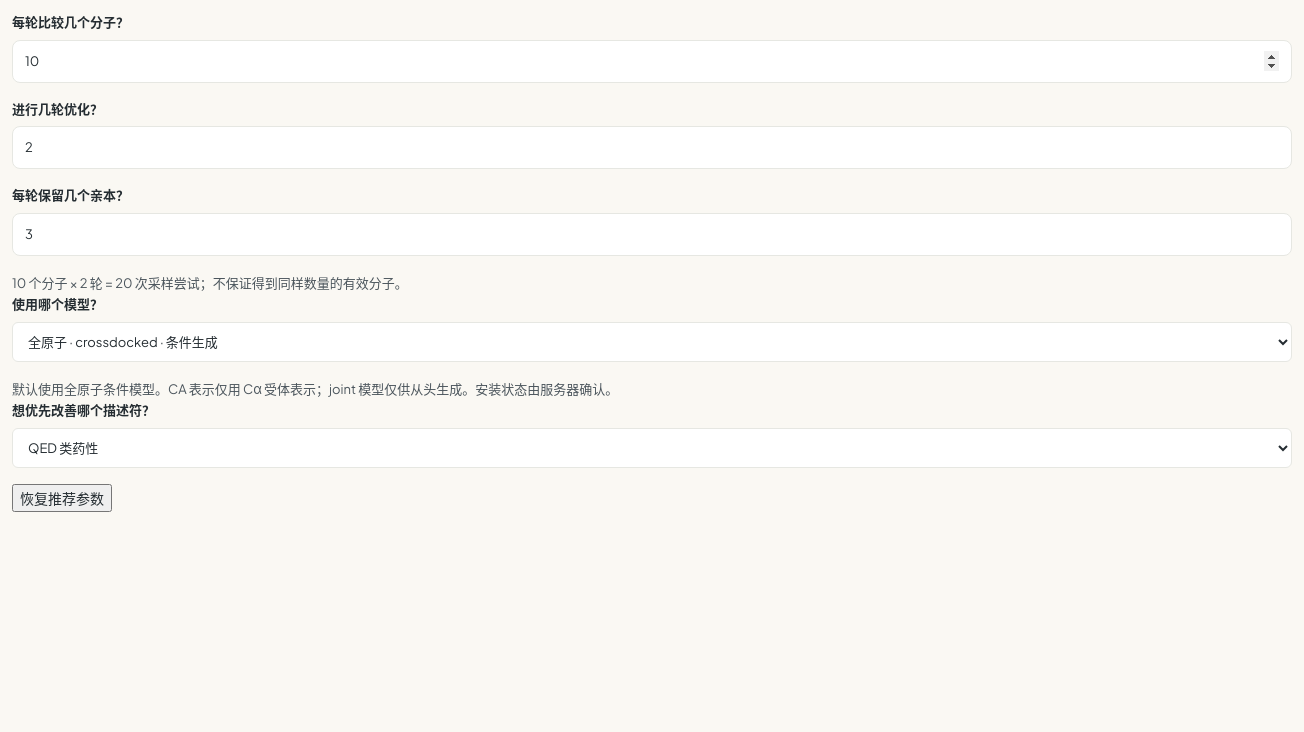
Test: shows actual optimization budget instead of an unused candidate count in zh
Replace the text in the number field labelled "每轮比较几个分子？" with "60": point(652, 61) [12,40,1292,83]
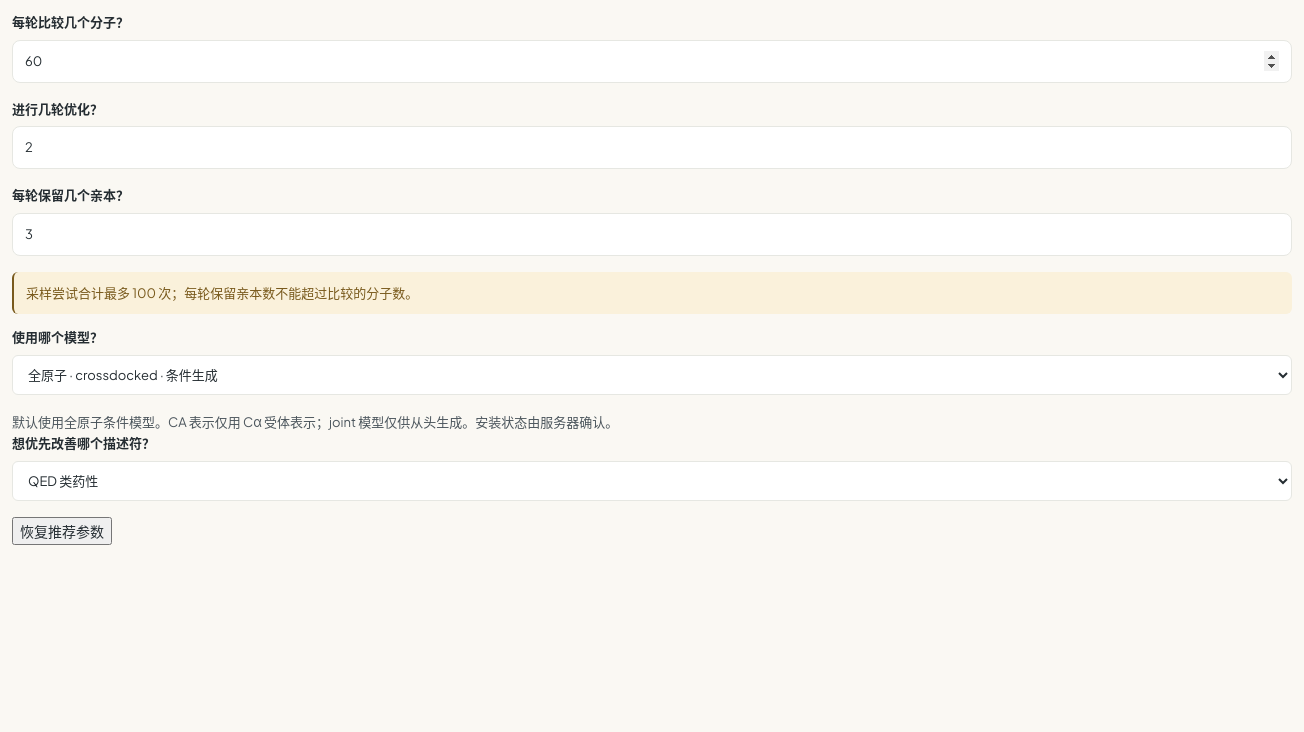
Expected: the message shows "100", [26,285,418,301]
Replace the text in the number field labelled "每轮比较几个分子？" with "12": point(652, 61) [12,40,1292,83]
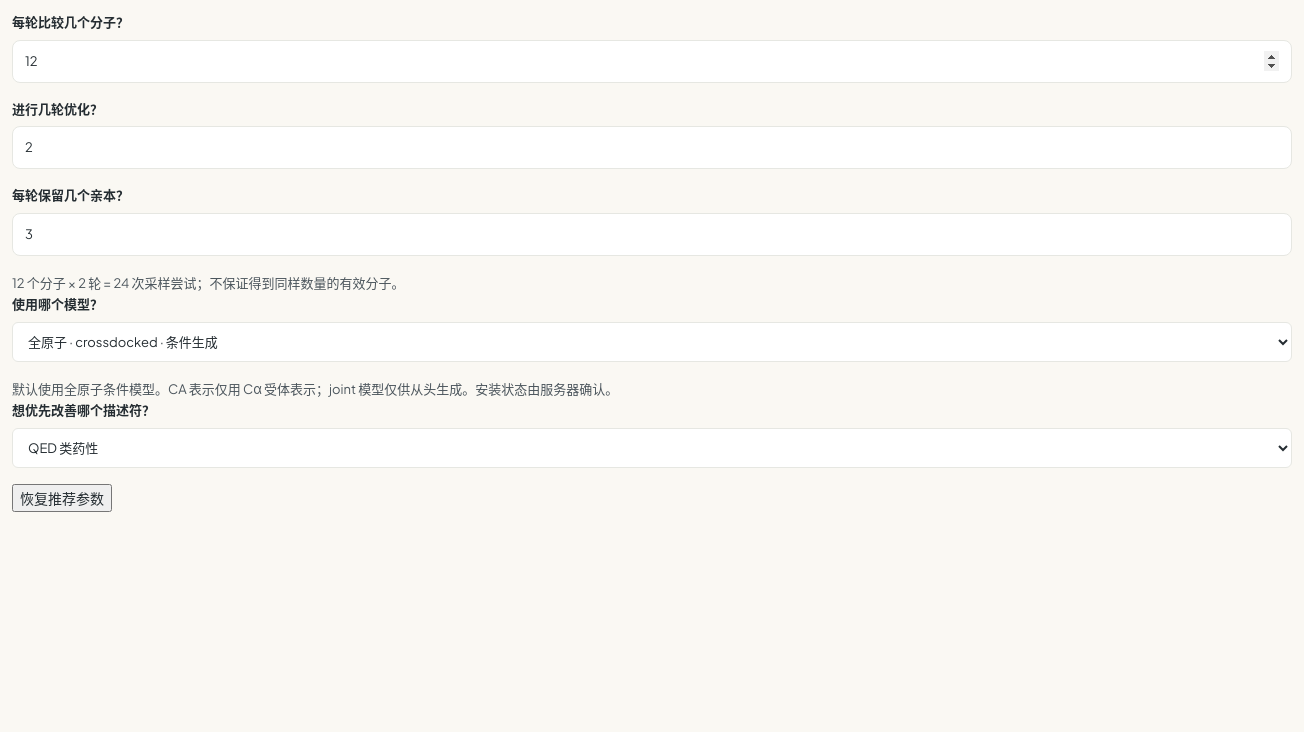
Expected: the text "12 个分子 × 2 轮 = 24 次采样尝试；不保证得到同样数量的有效分子。" is shown, [12,275,404,291]
